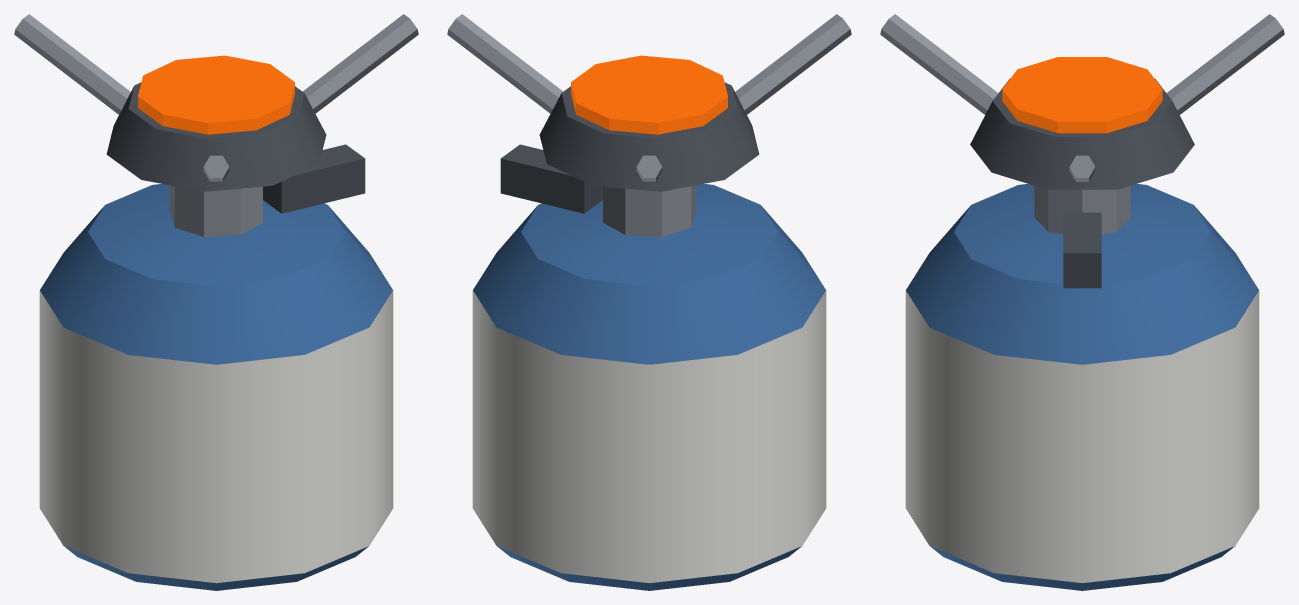
Rendered from SM_Camping_Stove.glb.
The picture shows the model from 3 angles, left to right: view 1: azimuth 30°, elevation 25°; view 2: azimuth 150°, elevation 25°; view 3: azimuth 270°, elevation 25°; orthographic projection.
Parts seen in each view (by area): view 1: SM_Camping_Stove; view 2: SM_Camping_Stove; view 3: SM_Camping_Stove.
Part boxes in pixels (bbox=[...]): SM_Camping_Stove: bbox=[14, 14, 418, 590]; SM_Camping_Stove: bbox=[447, 14, 851, 590]; SM_Camping_Stove: bbox=[880, 14, 1284, 590].
Bounding box in the file's own units: 0.1265 × 0.1581 × 0.1259.
Materials: 2 (2 with a texture image).
